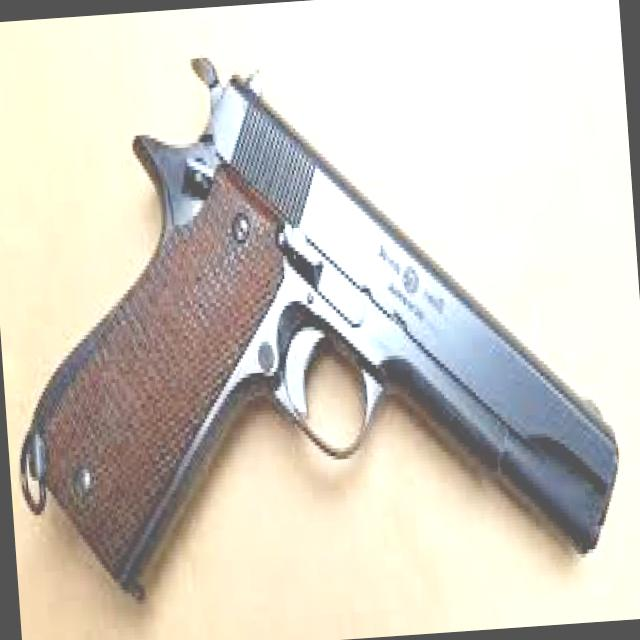semi automatic: (0, 9, 635, 610)
